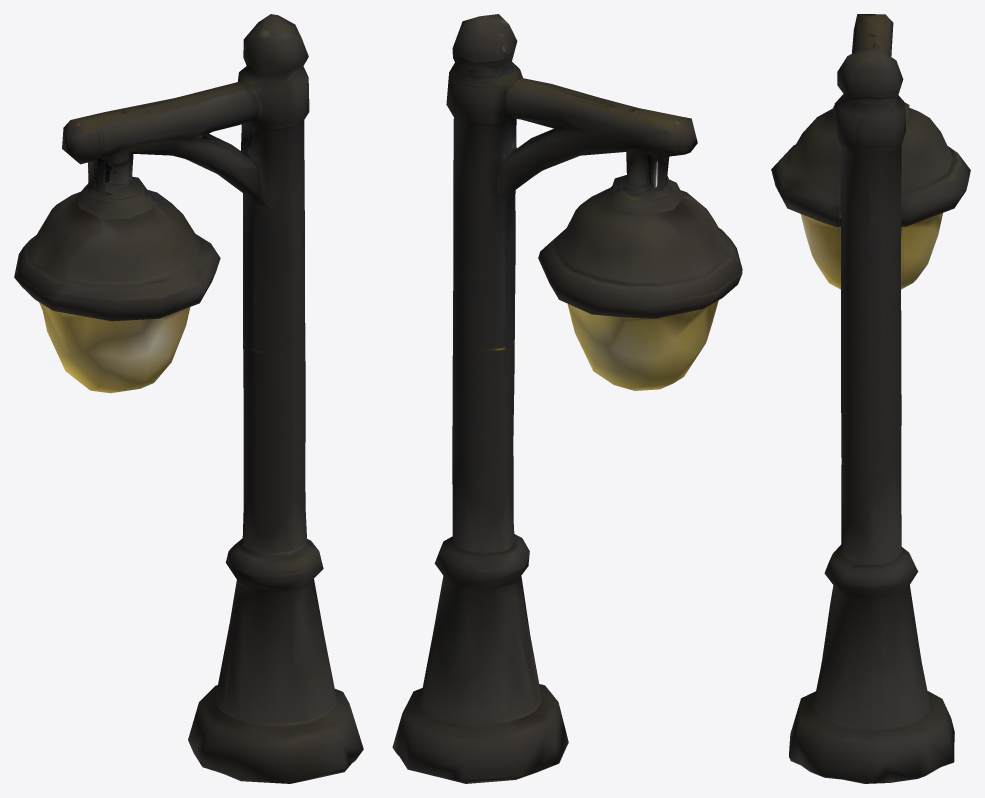
The model's file is Lamp_Post_Glow_0811165314_texture.fbx.
The picture shows the model from 3 angles, left to right: view 1: azimuth 30°, elevation 25°; view 2: azimuth 150°, elevation 25°; view 3: azimuth 270°, elevation 25°; orthographic projection. The views are drawn at different scales.
Visible parts, largest first — view 1: input; view 2: input; view 3: input.
Part boxes in pixels (<box>): input: <box>14,14,363,783</box>; input: <box>392,14,742,783</box>; input: <box>771,14,970,783</box>.
Size of the model in its own units: 92.73 by 200 by 51.64.
Materials: 1 (1 with a texture image).
